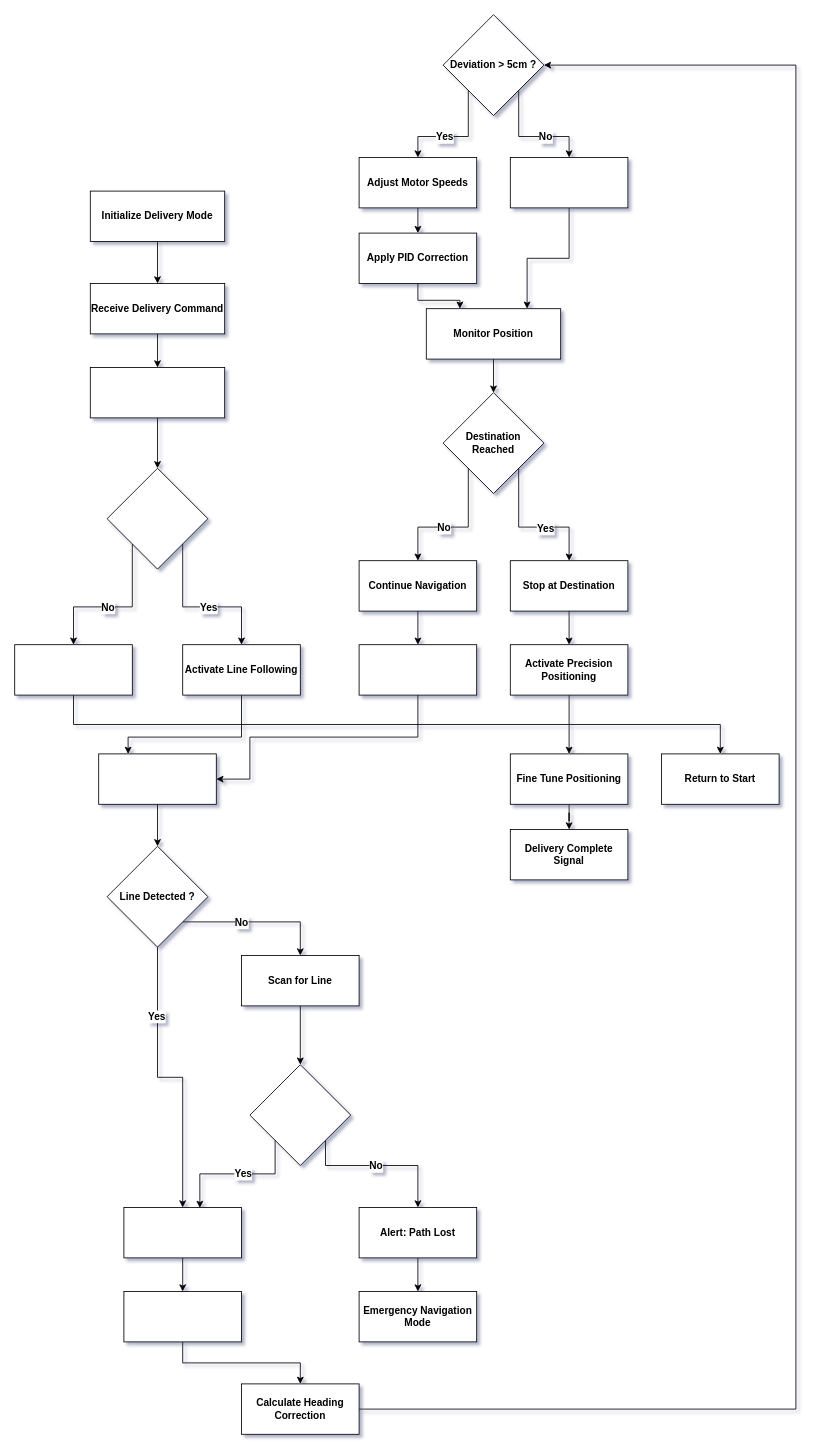
The diagram is 822 pixels wide and 1454 high, and some of its shapes have lost their labels. The shapes that lost their labels are listed below. From the top down, each one's centre as x and y in pixels, then its label:
At (x=568, y=182): "Maintain Course".
At (x=157, y=392): "Load Destinantion Coordinates".
At (x=157, y=518): "Destination Valid ?".
At (x=73, y=669): "Display Error Message".
At (x=417, y=669): "Check Distance Remaining".
At (x=157, y=778): "Read Line Sensor Array".
At (x=300, y=1115): "Line Found ?".
At (x=182, y=1232): "Calculate Line Position".
At (x=182, y=1316): "Activate Gyroscope/Accelerometer".
